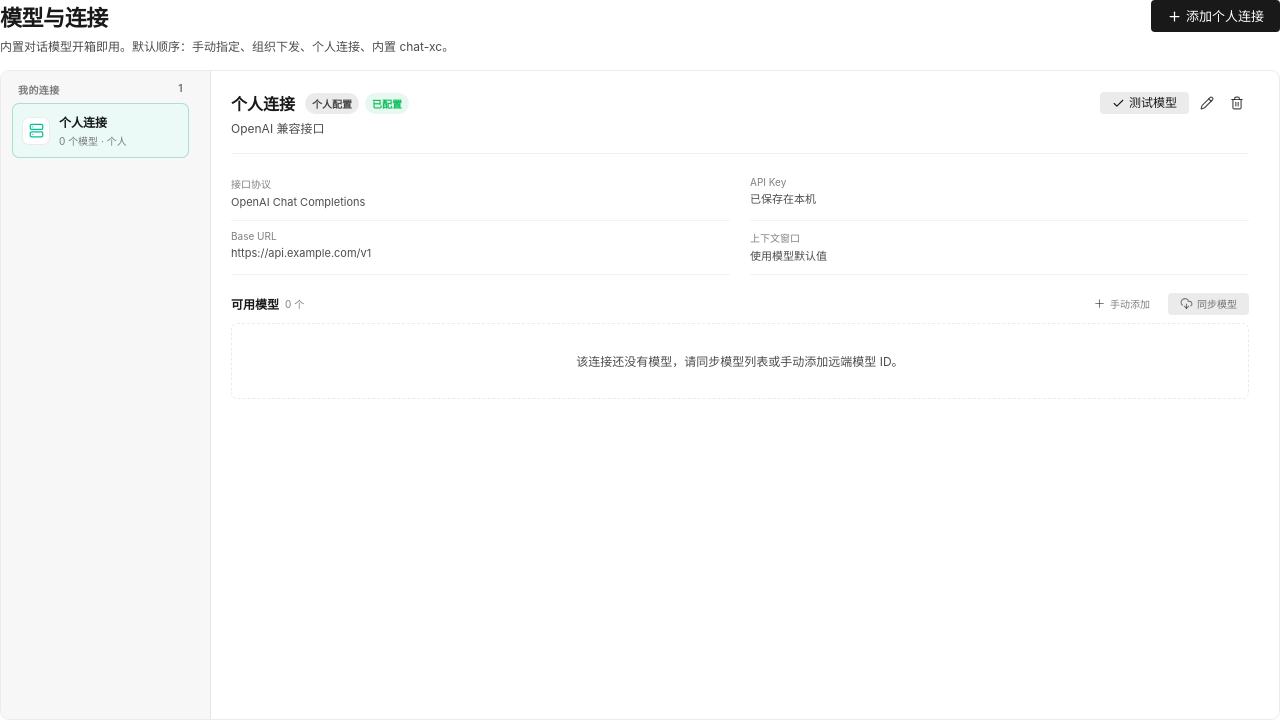
Test case: ModelConnectionsPanel › 删除已成功但后续全局刷新失败时不保留可重复删除的弹窗
The width and height of the screenshot is (1280, 720).
Expected: the heading "个人连接" is shown, top-left (231, 91), bottom-right (295, 115)
Click the button named "删除连接" at (1237, 103), box top-left (1225, 91), bottom-right (1249, 115)
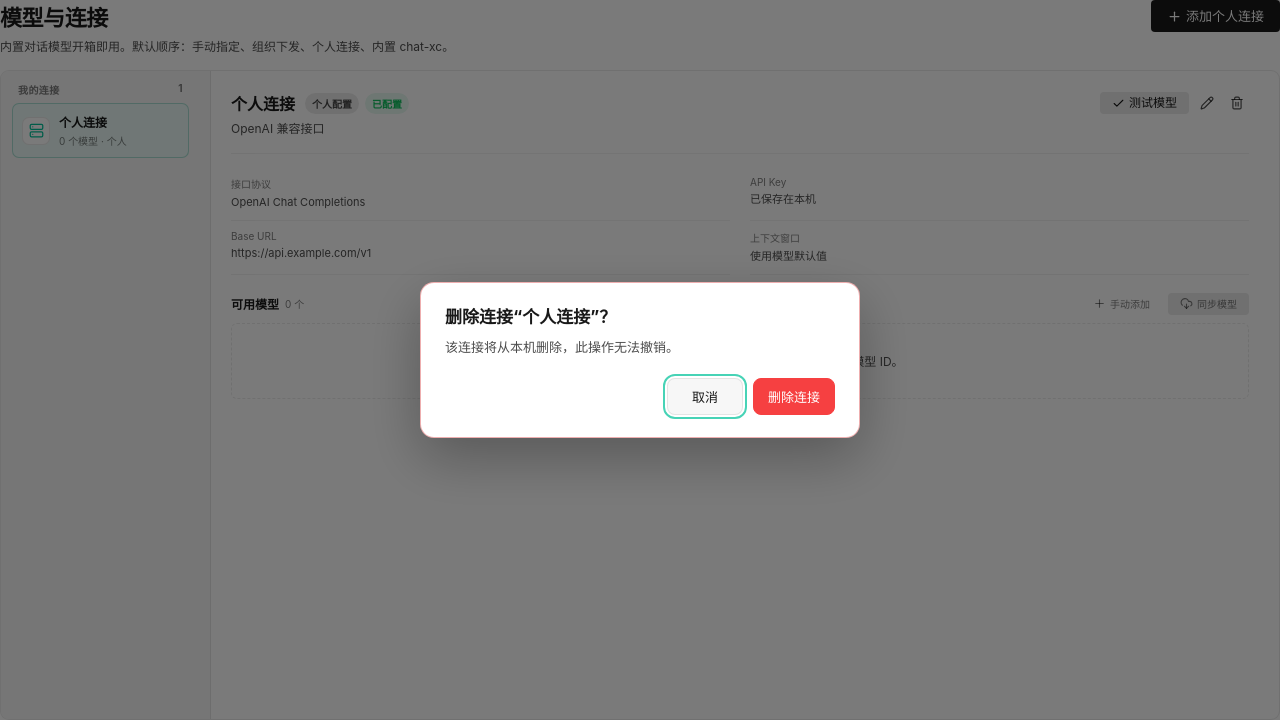
Click the button "删除连接" at (794, 397), box top-left (753, 378), bottom-right (835, 415)
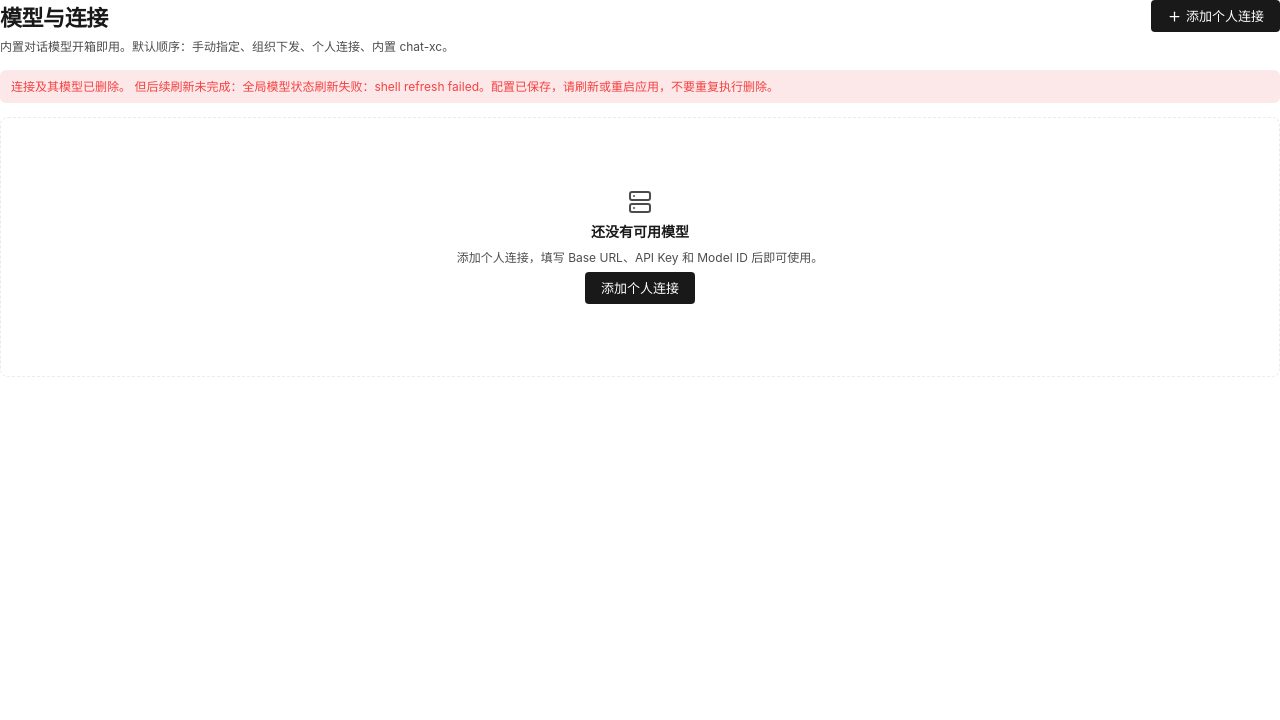
Result: the dialog is gone
Result: the text "shell refresh failed" shows "配置已保存" at top-left (11, 79), bottom-right (779, 94)
